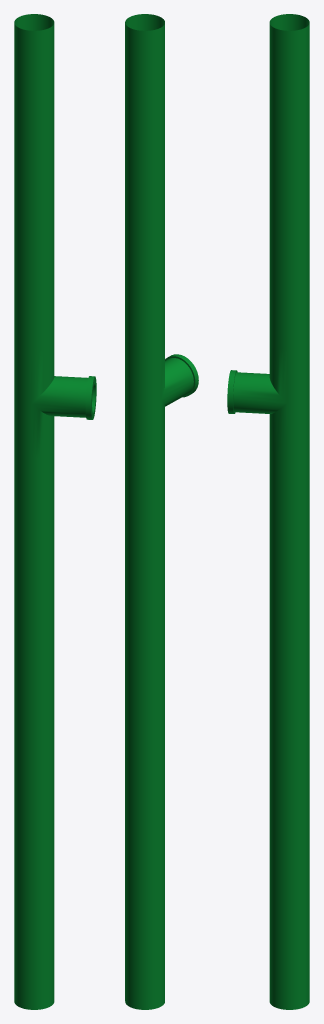
File: pipe.fbx
3 views of the same model, side by side, from view 1: azimuth 90°, elevation 25°; view 2: azimuth 150°, elevation 25°; view 3: azimuth 270°, elevation 25° (orthographic).
Parts seen in each view (by area): view 1: Game_pipe; view 2: Game_pipe; view 3: Game_pipe.
Part boxes in pixels (x1,y1,x2,y2): Game_pipe: [14, 14, 96, 1009]; Game_pipe: [125, 14, 198, 1009]; Game_pipe: [227, 14, 309, 1009].
Bounding box in the file's own units: 90.34 × 1987 × 151.
